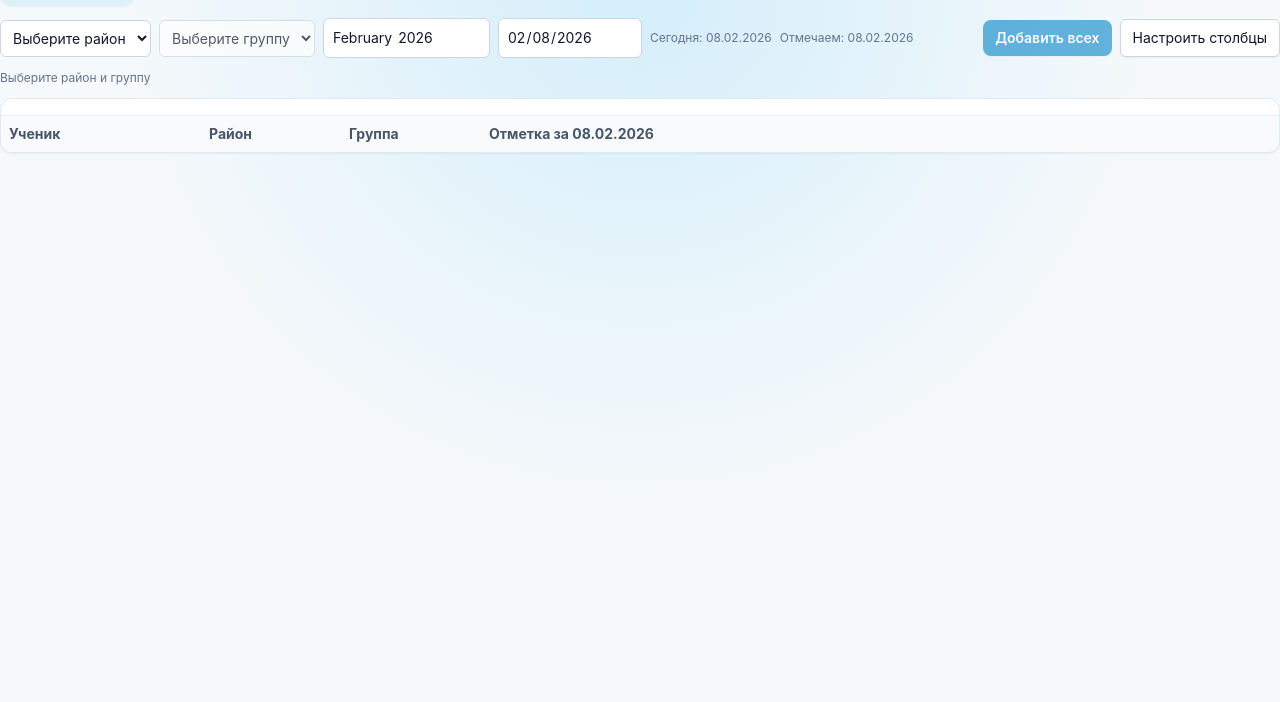
Test: AttendanceTab shows clients from additional placements
Step 1. Select "Area2" in the 1st dropdown → coordinates (76, 38), box [0, 20, 151, 56]
(page scrolled)
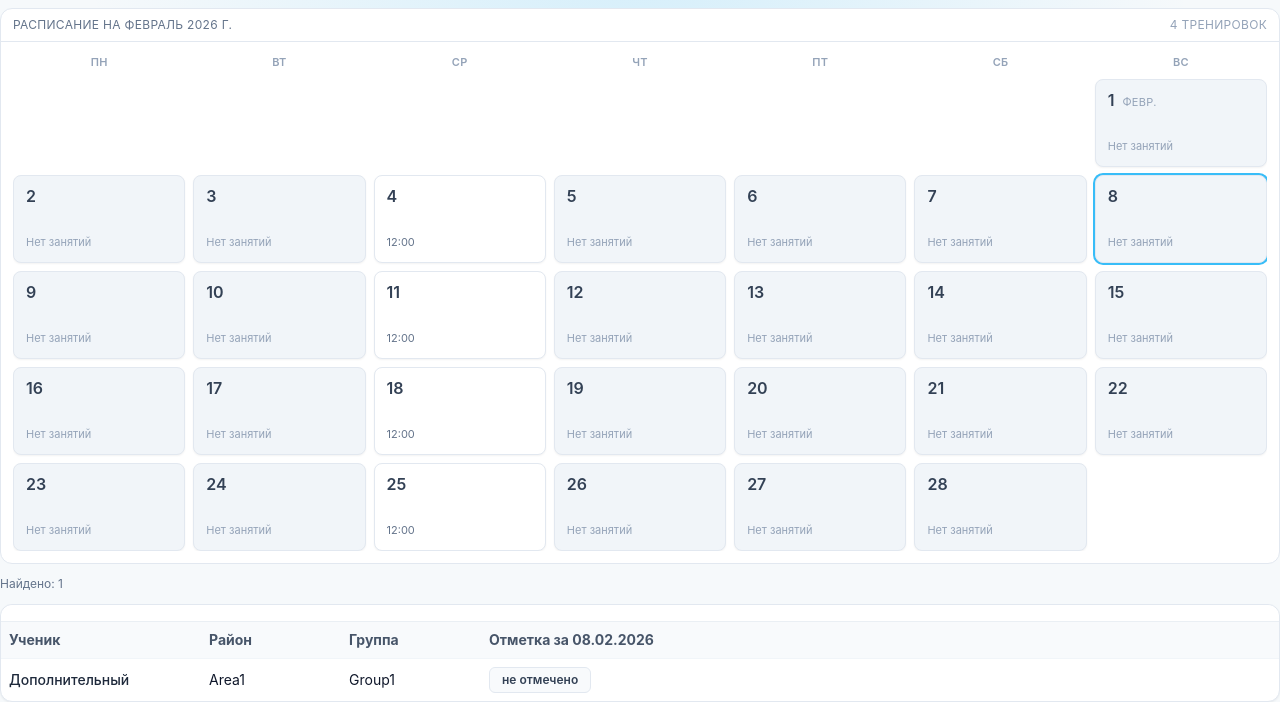
Expected: the text "Найдено: 1" is shown, [0, 576, 63, 590]
Expected: the text "Дополнительный" is shown, [9, 670, 129, 688]
